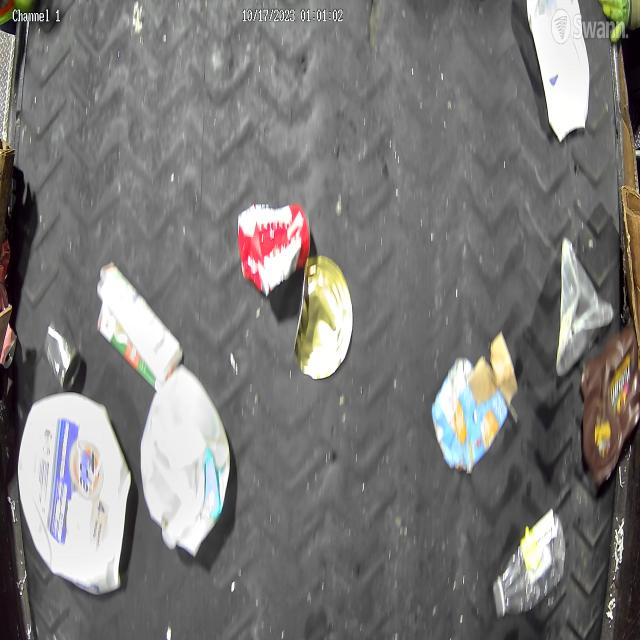can: (294, 256, 354, 380), (45, 321, 81, 391)
milk_jug: (19, 390, 132, 596), (140, 365, 232, 560), (526, 0, 590, 142)
non_white_jug: (578, 322, 640, 484)
plastic_bottle: (492, 509, 570, 621)
